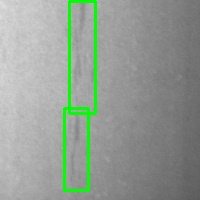inclusion: (69, 1, 95, 113), (64, 108, 88, 190)
